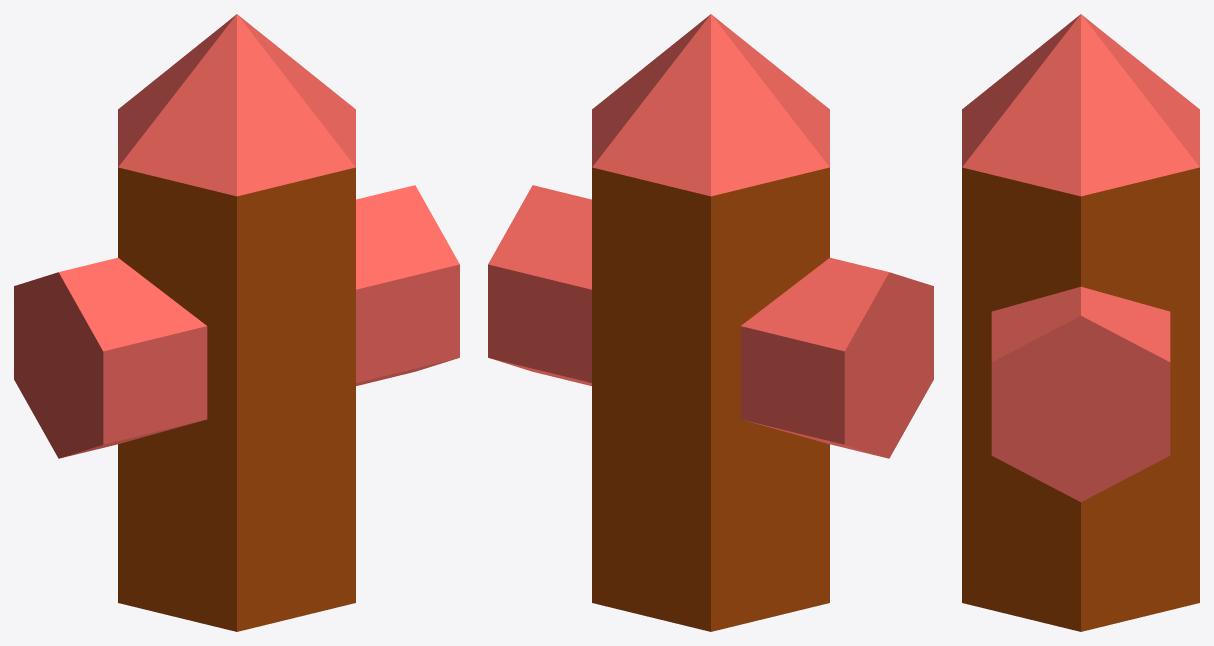
File: FIREH30.glb
3 views of the same model, side by side, from view 1: azimuth 30°, elevation 25°; view 2: azimuth 150°, elevation 25°; view 3: azimuth 270°, elevation 25° (orthographic).
Parts seen in each view (by area): view 1: FIREH30 | archived geometry; view 2: FIREH30 | archived geometry; view 3: FIREH30 | archived geometry.
Boxes of the visible parts, left/top/right/bottom form: FIREH30 | archived geometry: left=14, top=14, right=459, bottom=631; FIREH30 | archived geometry: left=488, top=14, right=933, bottom=631; FIREH30 | archived geometry: left=962, top=14, right=1199, bottom=631.
Bounding box in the file's own units: 0.5841 × 0.8761 × 0.3372.
